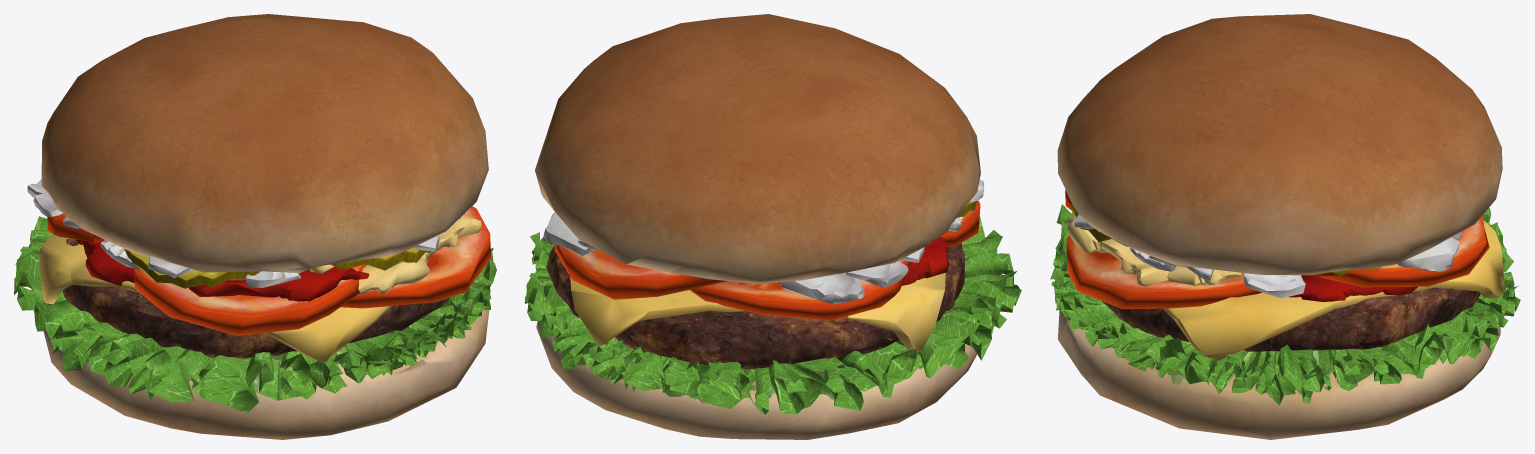
Rendered from hamburger.glb.
3 views of the same model, side by side, from view 1: azimuth 30°, elevation 25°; view 2: azimuth 150°, elevation 25°; view 3: azimuth 270°, elevation 25° (orthographic).
Parts seen in each view (by area): view 1: HAMBURGER_BREAD_0, HAMBURGER_INGREDIENTS_0, HAMBURGER_MEAT_0; view 2: HAMBURGER_BREAD_0, HAMBURGER_INGREDIENTS_0, HAMBURGER_MEAT_0; view 3: HAMBURGER_BREAD_0, HAMBURGER_INGREDIENTS_0, HAMBURGER_MEAT_0.
Part boxes in pixels (x1,y1,x2,y2): HAMBURGER_BREAD_0: (41, 14, 489, 439); HAMBURGER_INGREDIENTS_0: (14, 179, 496, 413); HAMBURGER_MEAT_0: (62, 238, 449, 359); HAMBURGER_BREAD_0: (535, 14, 980, 439); HAMBURGER_INGREDIENTS_0: (525, 180, 1021, 414); HAMBURGER_MEAT_0: (546, 243, 964, 368); HAMBURGER_BREAD_0: (1057, 14, 1502, 439); HAMBURGER_INGREDIENTS_0: (1050, 189, 1520, 405); HAMBURGER_MEAT_0: (1102, 287, 1480, 351).
Bounding box in the file's own units: 22.7 × 15.69 × 21.52.
3 materials, 3 textured.
